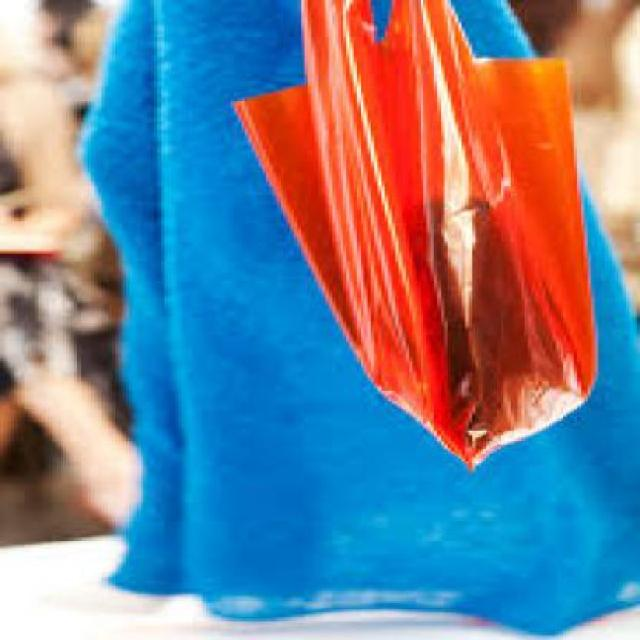PLASTIC: (242, 1, 602, 465)
